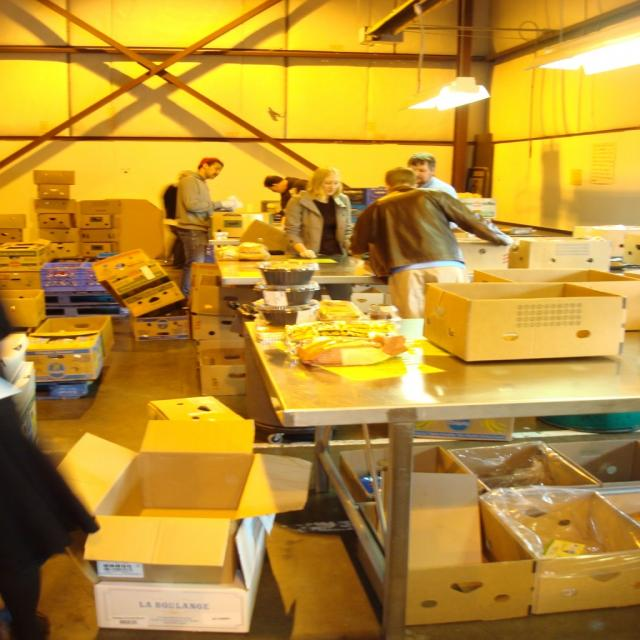Box: (0, 169, 258, 394), (59, 420, 316, 632), (344, 438, 639, 622), (471, 260, 639, 330), (141, 395, 250, 427)
